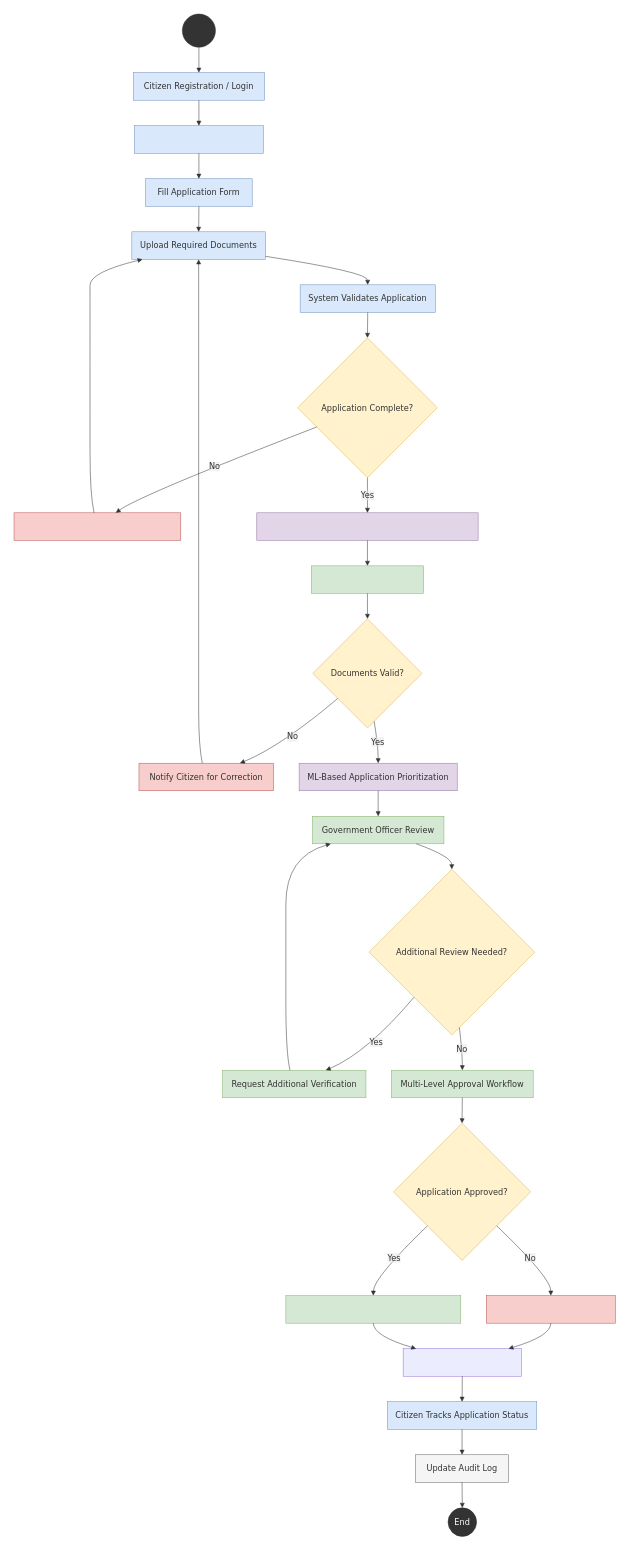
This 624x1545 diagram has some shape labels left out. Each missing label, with the centre of its shape:
"AI Document Classification & Information Extraction" goes at (x=367, y=526).
"Document Verification" goes at (x=367, y=579).
"Generate Service Certificate / Decision" goes at (x=373, y=1309).
"Record Rejection & Reason" goes at (x=550, y=1309).
"Request Missing / Correct Documents" goes at (x=97, y=526).
"Select Government Service" goes at (x=198, y=139).
"Send Status Notification" goes at (x=462, y=1362).
"Start" goes at (x=198, y=30).
